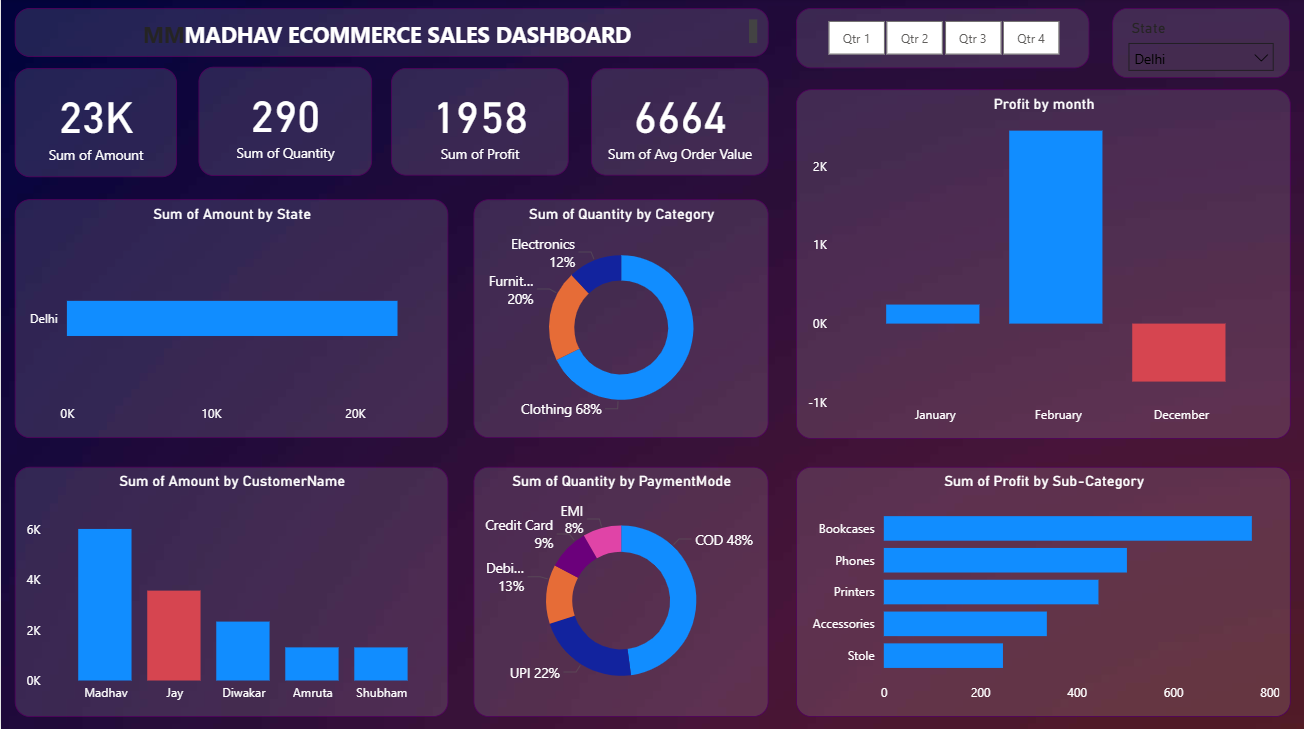

This screenshot's page, from the dashboard's own definition file:
{"tool":"powerbi","page":{"name":"Page 1","canvas":[1280,720],"ordinal":0},"visuals":[{"type":"textbox","box":[13.7,9.6,739.6,48],"z":0},{"type":"columnChart","title":"Profit by month","fields":{"Category":["Orders.Order Date.Variation.Date Hierarchy.Month"],"Y":["Details.Profit"]},"box":[780.8,89.2,485.8,343.1],"z":1000},{"type":"barChart","fields":{"Category":["Details.Sub-Category"],"Y":["Details.Profit"]},"box":[780.8,459.7,485.8,245.6],"z":2000},{"type":"donutChart","fields":{"Category":["Details.Category"],"Y":["Details.Quantity"]},"box":[463.8,197.6,289.5,234.6],"z":3000},{"type":"donutChart","fields":{"Y":["Details.Quantity"],"Category":["Details.PaymentMode"]},"box":[463.8,459.7,289.5,245.6],"z":4000},{"type":"card","fields":{"Values":["Details.Amount"]},"box":[13.7,68.6,159.2,107],"z":5000},{"type":"card","fields":{"Values":["Details.Profit"]},"box":[382.8,68.6,174.3,105.7],"z":6000},{"type":"card","fields":{"Values":["Details.Quantity"]},"box":[193.5,67.2,170.2,107],"z":7000},{"type":"card","fields":{"Values":["Details.Avg Order Value"]},"box":[579.1,68.6,174.3,105.7],"z":8000},{"type":"barChart","fields":{"Category":["Orders.State"],"Y":["Details.Amount"]},"box":[13.7,197.6,425.4,234.6],"z":9000},{"type":"columnChart","fields":{"Category":["Orders.CustomerName"],"Y":["Details.Amount"]},"box":[13.7,459.7,425.4,245.6],"z":10000},{"type":"slicer","fields":{"Values":["Orders.Order Date.Variation.Date Hierarchy.Quarter"]},"box":[780.8,9.6,288.2,59],"z":11000},{"type":"slicer","fields":{"Values":["Orders.State"]},"box":[1090.8,9.8,174.2,68.7],"z":12000}]}

Visuals, with their boxes in screenshot pixels (x1, y1, x2, y2), scaled from the page's 1280x720 canvas onto the 1304x729 screenshot:
textbox: Rect(14, 10, 767, 58)
"Profit by month" columnChart: Rect(795, 90, 1290, 438)
barChart - Details.Sub-Category x Details.Profit: Rect(795, 465, 1290, 714)
donutChart - Details.Category x Details.Quantity: Rect(472, 200, 767, 438)
donutChart - Details.Quantity x Details.PaymentMode: Rect(472, 465, 767, 714)
card - Details.Amount: Rect(14, 69, 176, 178)
card - Details.Profit: Rect(390, 69, 568, 176)
card - Details.Quantity: Rect(197, 68, 371, 176)
card - Details.Avg Order Value: Rect(590, 69, 768, 176)
barChart - Orders.State x Details.Amount: Rect(14, 200, 447, 438)
columnChart - Orders.CustomerName x Details.Amount: Rect(14, 465, 447, 714)
slicer - Orders.Order Date.Variation.Date Hierarchy.Quarter: Rect(795, 10, 1089, 69)
slicer - Orders.State: Rect(1111, 10, 1289, 79)
